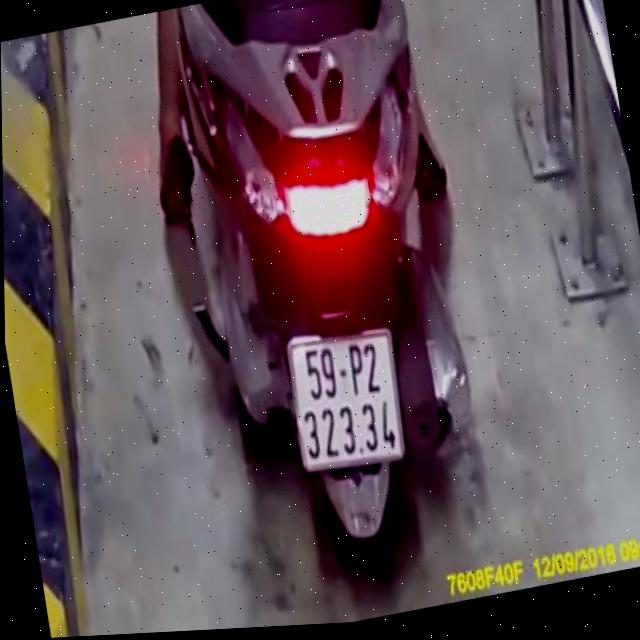motorcycle: (166, 0, 498, 593)
plate: (280, 315, 410, 484)
